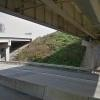Bridge: (1, 1, 99, 52)
